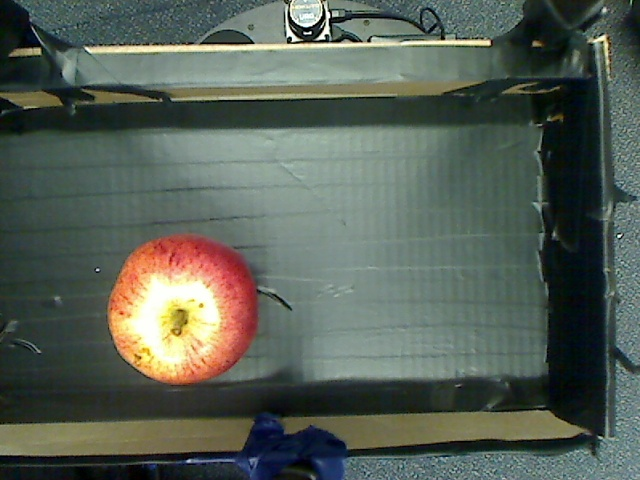apple: (90, 236, 276, 396)
